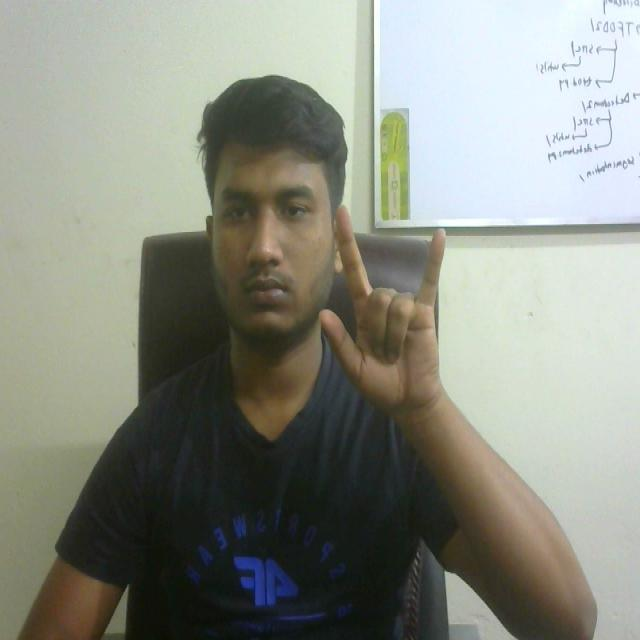B: (313, 198, 466, 434)
